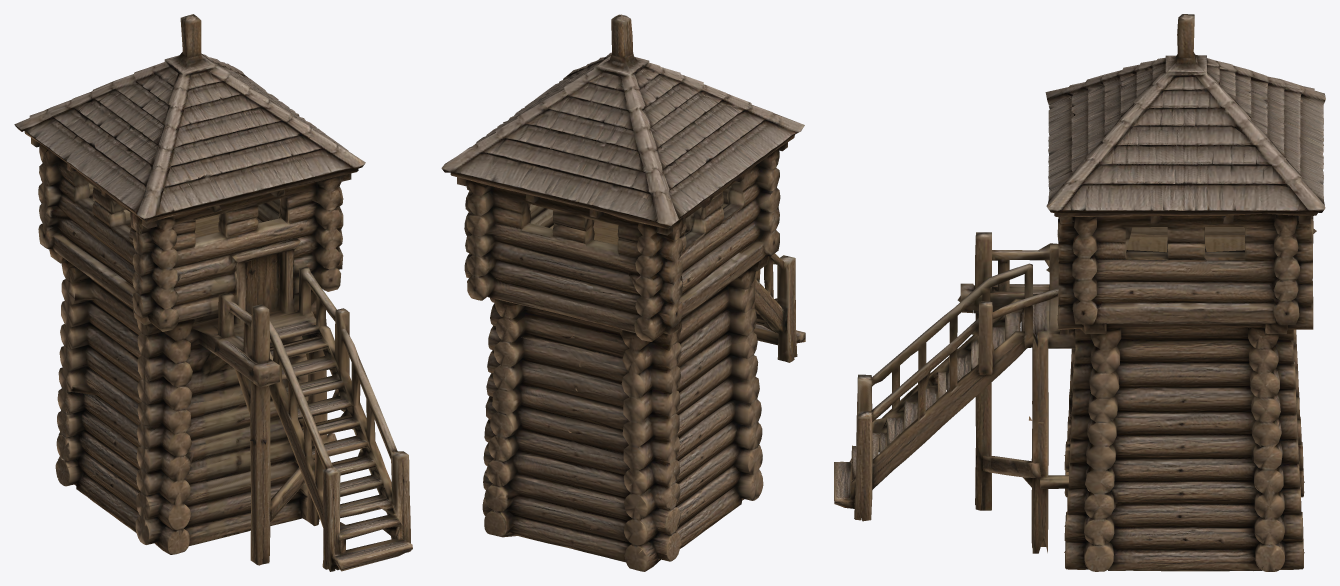
Rendered from tripo_convert_c351287b-8a7f-4786-8951-59702f64bea7.fbx.
3 renders of one model, left to right at view 1: azimuth 30°, elevation 25°; view 2: azimuth 150°, elevation 25°; view 3: azimuth 270°, elevation 25°, orthographic. The views are drawn at different scales.
Visible parts, largest first — view 1: tripo_node_c351287b; view 2: tripo_node_c351287b; view 3: tripo_node_c351287b.
Boxes of the visible parts, <box> form: tripo_node_c351287b: <box>14,14,412,571</box>; tripo_node_c351287b: <box>441,14,805,571</box>; tripo_node_c351287b: <box>834,14,1325,571</box>.
Bounding box in the file's own units: 0.4782 × 0.9776 × 0.8455.
1 material, 1 textured.
